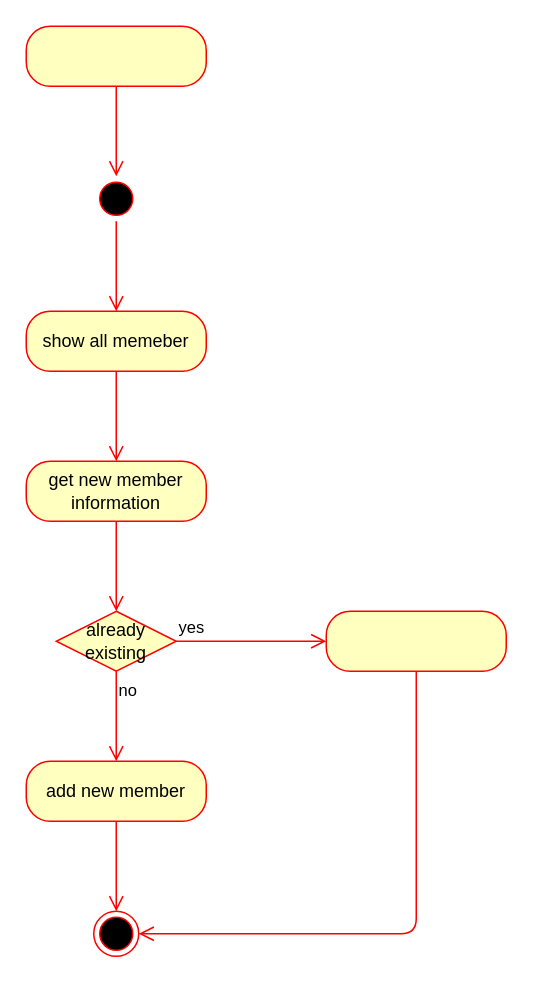
Image size: 533x983. Some labels were removed from this diagram. The centre of each missing label's shape, as x and y in pixels:
click on add member: (x=115, y=55)
msg "member already exists": (x=415, y=640)
